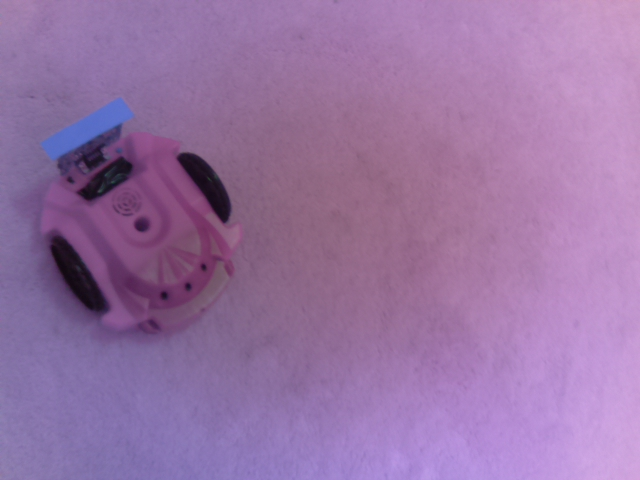board: (44, 93, 135, 166)
chassis: (34, 92, 248, 340)
